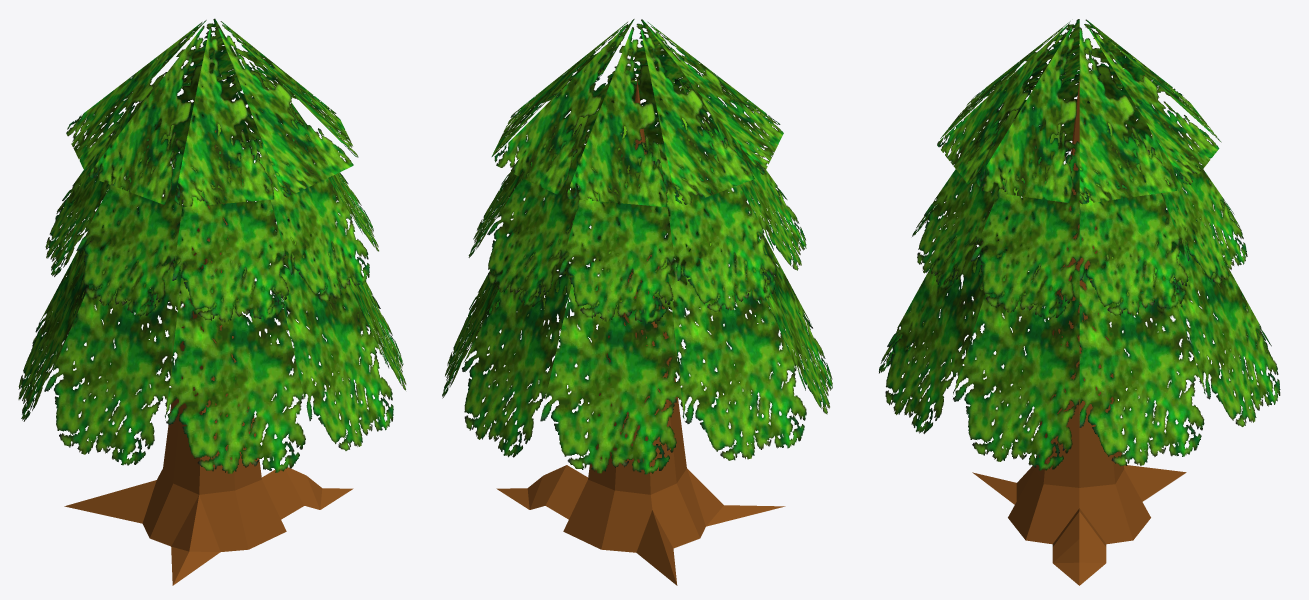
Rendered from stree_3.glb.
The picture shows the model from 3 angles, left to right: view 1: azimuth 30°, elevation 25°; view 2: azimuth 150°, elevation 25°; view 3: azimuth 270°, elevation 25°; orthographic projection.
Parts seen in each view (by area): view 1: tree2; view 2: tree2; view 3: tree2.
Part boxes in pixels (x1,y1,x2,y2): tree2: (18, 18, 406, 585); tree2: (442, 19, 832, 585); tree2: (879, 19, 1280, 585).
Bounding box in the file's own units: 1.62 × 2.09 × 1.62.
2 materials, 1 textured.
